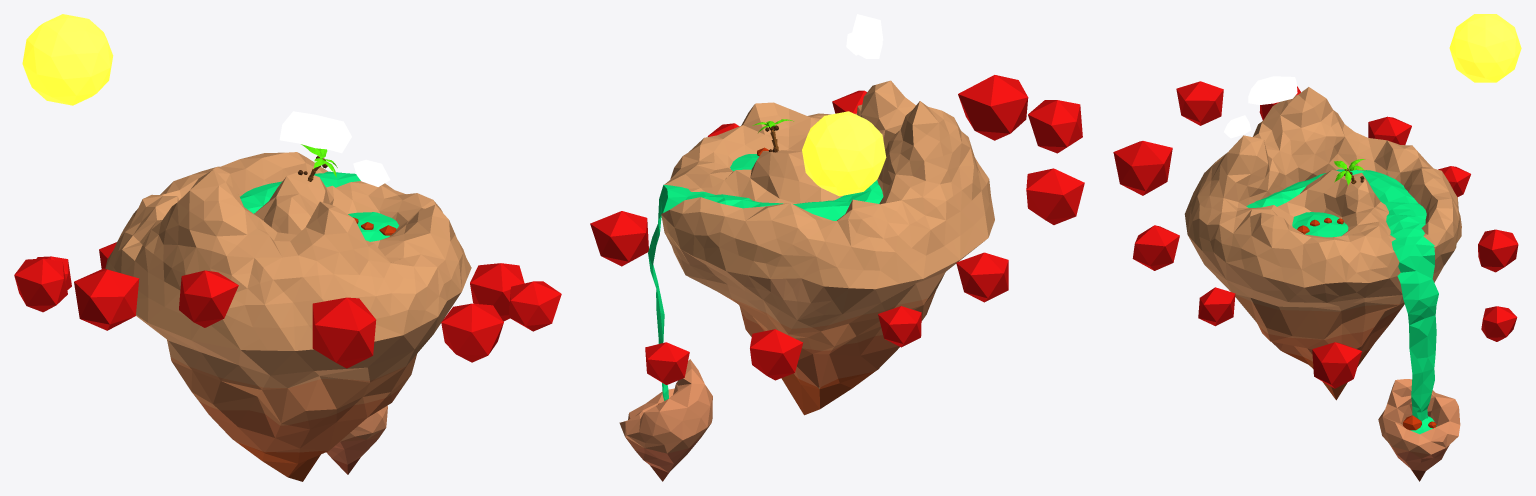
File: oasis.gltf
3 renders of one model, left to right at view 1: azimuth 30°, elevation 25°; view 2: azimuth 150°, elevation 25°; view 3: azimuth 270°, elevation 25°, orthographic. The views are drawn at different scales.
Parts seen in each view (by area): view 1: Icosphere_2, Icosphere.006_17, Icosphere.021_32, Icosphere.019_30, Icosphere.022_33, Icosphere.020_31, Icosphere.018_29, Icosphere.007_18, Icosphere.023_34, Icosphere.024_35, Plane_3, Icosphere.001_4 (+1 smaller); view 2: Icosphere_2, Icosphere.001_4, Icosphere.006_17, Plane_3, Icosphere.021_32, Icosphere.019_30, Icosphere.024_35, Icosphere.020_31, Icosphere.015_26, Icosphere.018_29, Icosphere.016_27, Icosphere.017_28 (+2 smaller); view 3: Icosphere_2, Plane_3, Icosphere.001_4, Icosphere.006_17, Icosphere.021_32, Icosphere.024_35, Icosphere.020_31, Icosphere.022_33, Icosphere.015_26, Icosphere.007_18, Icosphere.023_34, Icosphere.016_27 (+2 smaller).
Part boxes in pixels (x1=…): Icosphere_2: x1=105, y1=152, x2=471, y2=481; Icosphere.006_17: x1=22, y1=14, x2=113, y2=105; Icosphere.021_32: x1=312, y1=297, x2=376, y2=368; Icosphere.019_30: x1=74, y1=268, x2=139, y2=330; Icosphere.022_33: x1=441, y1=303, x2=503, y2=362; Icosphere.020_31: x1=179, y1=270, x2=238, y2=327; Icosphere.018_29: x1=14, y1=258, x2=67, y2=312; Icosphere.007_18: x1=279, y1=111, x2=351, y2=153; Icosphere.023_34: x1=508, y1=281, x2=561, y2=331; Icosphere.024_35: x1=470, y1=263, x2=524, y2=321; Plane_3: x1=240, y1=171, x2=398, y2=241; Icosphere.001_4: x1=326, y1=405, x2=387, y2=474; Icosphere_2: x1=661, y1=80, x2=994, y2=415; Icosphere.001_4: x1=619, y1=359, x2=712, y2=481; Icosphere.006_17: x1=802, y1=111, x2=886, y2=196; Plane_3: x1=648, y1=154, x2=883, y2=400; Icosphere.021_32: x1=958, y1=75, x2=1028, y2=140; Icosphere.019_30: x1=1026, y1=168, x2=1084, y2=224; Icosphere.024_35: x1=590, y1=211, x2=648, y2=266; Icosphere.020_31: x1=1028, y1=100, x2=1082, y2=153; Icosphere.015_26: x1=750, y1=329, x2=802, y2=380; Icosphere.018_29: x1=956, y1=252, x2=1008, y2=302; Icosphere.016_27: x1=645, y1=342, x2=689, y2=384; Icosphere.017_28: x1=878, y1=306, x2=921, y2=347; Icosphere_2: x1=1184, y1=87, x2=1461, y2=400; Plane_3: x1=1246, y1=169, x2=1438, y2=421; Icosphere.001_4: x1=1378, y1=379, x2=1460, y2=481; Icosphere.006_17: x1=1449, y1=14, x2=1521, y2=82; Icosphere.021_32: x1=1113, y1=141, x2=1172, y2=195; Icosphere.024_35: x1=1312, y1=342, x2=1361, y2=388; Icosphere.020_31: x1=1176, y1=81, x2=1223, y2=125; Icosphere.022_33: x1=1132, y1=225, x2=1179, y2=270; Icosphere.015_26: x1=1478, y1=229, x2=1518, y2=272; Icosphere.007_18: x1=1248, y1=76, x2=1297, y2=104; Icosphere.023_34: x1=1198, y1=287, x2=1235, y2=326; Icosphere.016_27: x1=1481, y1=306, x2=1517, y2=341.
Size of the model in its own units: 28.75 by 27.64 by 27.17.
